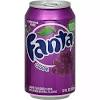fanta_can: (25, 1, 76, 100)
